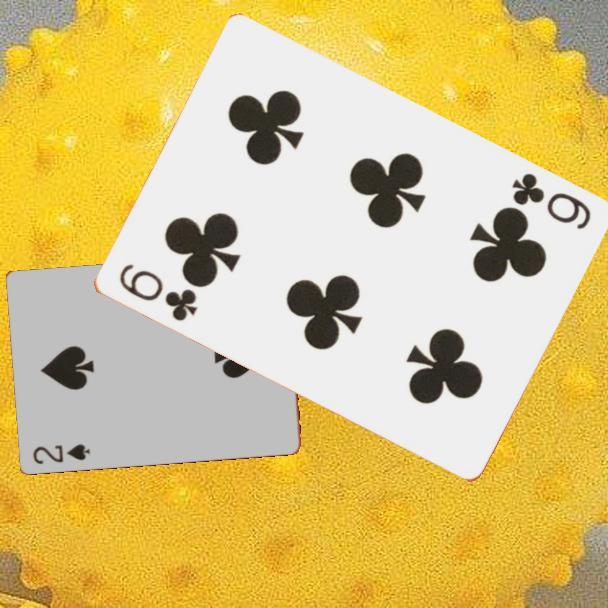c06: (115, 260, 200, 325), (507, 169, 593, 233)
s02: (29, 440, 93, 467)
